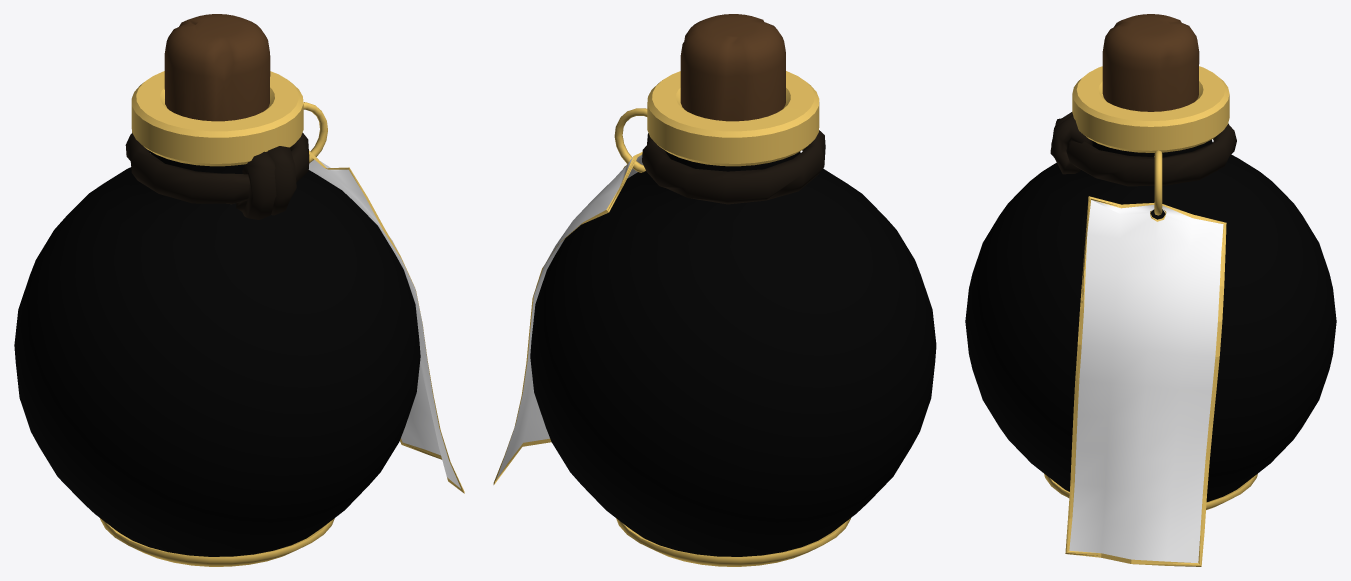
File: Potion.fbx
3 views of the same model, side by side, from view 1: azimuth 30°, elevation 25°; view 2: azimuth 150°, elevation 25°; view 3: azimuth 270°, elevation 25° (orthographic). The views are drawn at different scales.
Visible parts, largest first — view 1: Recepiente, Rolha, Top, Papel, Corda, No, Bot, Pingente; view 2: Recepiente, Rolha, Top, Corda, Papel, Bot, Pingente; view 3: Recepiente, Papel, Rolha, Top, Corda, No, Bot, Pingente.
Part boxes in pixels (<box>): Recepiente: <box>14,151,420,556</box>; Rolha: <box>164,14,270,121</box>; Top: <box>131,71,303,166</box>; Papel: <box>308,150,464,493</box>; Corda: <box>125,132,309,204</box>; No: <box>236,146,296,219</box>; Bot: <box>100,518,334,566</box>; Pingente: <box>303,102,327,162</box>; Recepiente: <box>530,151,936,556</box>; Rolha: <box>680,14,785,121</box>; Top: <box>647,71,819,166</box>; Corda: <box>642,130,825,204</box>; Papel: <box>493,152,643,484</box>; Bot: <box>616,518,850,566</box>; Pingente: <box>614,108,647,172</box>; Recepiente: <box>965,139,1336,501</box>; Papel: <box>1065,196,1226,566</box>; Rolha: <box>1102,14,1199,111</box>; Top: <box>1072,66,1229,152</box>; Corda: <box>1066,123,1236,186</box>; No: <box>1050,112,1092,174</box>; Bot: <box>1044,473,1257,509</box>; Pingente: <box>1154,150,1162,215</box>.
Size of the model in its own units: 96.75 by 85.7 by 117.
